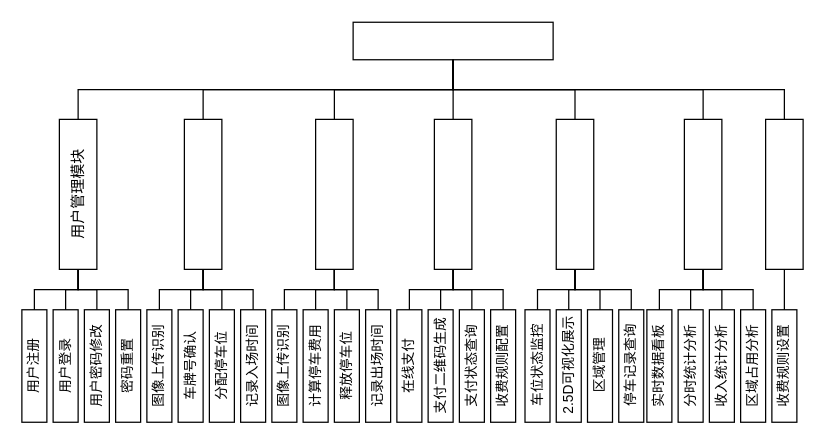
The diagram is 825 pixels wide and 444 high, and some of its shapes have lost their labels. Each missing label, with the centre of its shape:
"停车场管理模块" belongs at pixel 574 193.
"停车费管理模块" belongs at pixel 452 193.
"数据统计模块" belongs at pixel 702 193.
"智能停车场综合管理系统" belongs at pixel 452 40.
"系统设置模块" belongs at pixel 783 193.
"车辆入场模块" belongs at pixel 202 193.
"车辆出场模块" belongs at pixel 333 193.
